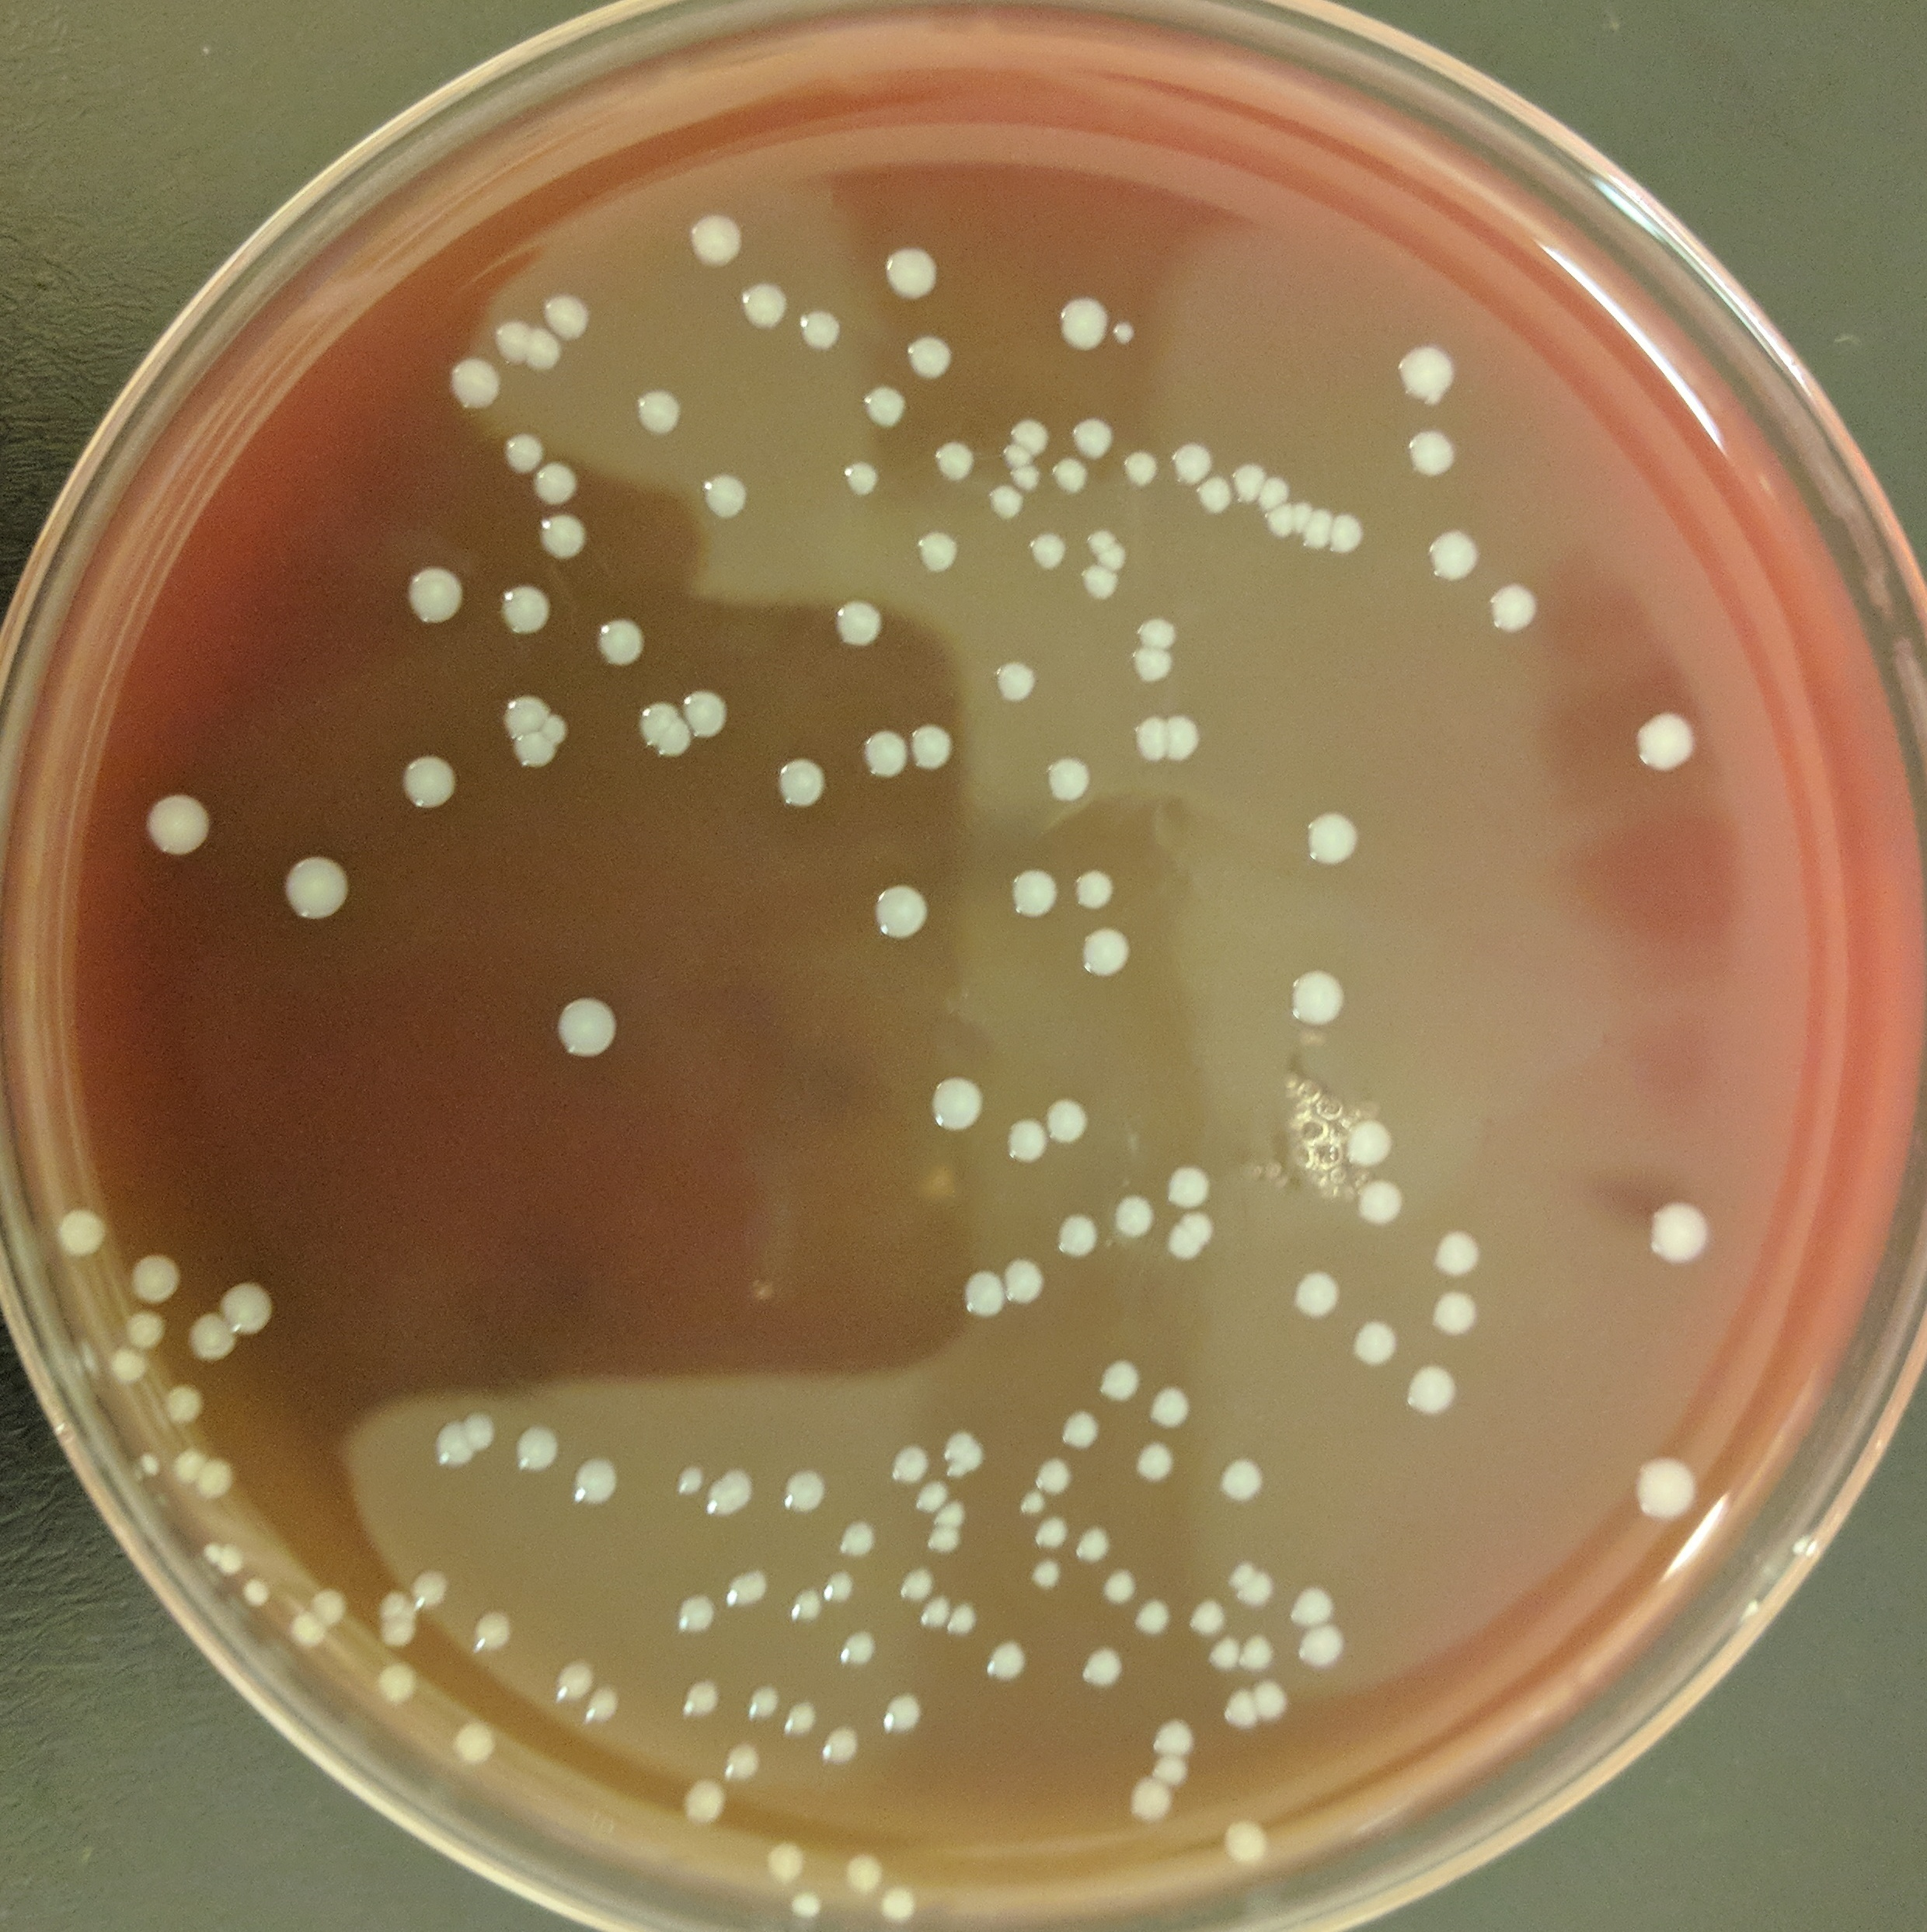sp14: (1622, 695, 1712, 785), (1634, 1182, 1721, 1272), (1625, 1442, 1710, 1533), (136, 778, 222, 866), (274, 843, 362, 928), (1406, 513, 1496, 595), (1387, 321, 1470, 406), (431, 339, 514, 423), (914, 1059, 999, 1142), (1387, 415, 1481, 489), (1419, 1274, 1502, 1357), (1473, 570, 1556, 649), (547, 986, 630, 1064), (1211, 1798, 1286, 1883), (1339, 1164, 1426, 1237), (397, 552, 476, 630), (866, 868, 942, 949), (390, 745, 469, 819), (1396, 1355, 1475, 1429), (676, 196, 755, 268), (1281, 958, 1355, 1034), (1297, 799, 1373, 873), (492, 573, 565, 651), (872, 229, 951, 300), (589, 598, 660, 676), (768, 743, 836, 822), (1422, 1209, 1495, 1283), (828, 582, 898, 658), (1034, 738, 1099, 817), (1041, 279, 1110, 353), (1341, 1307, 1408, 1383), (1073, 919, 1147, 986), (1283, 1253, 1350, 1327), (1002, 852, 1064, 932), (724, 272, 789, 346), (794, 296, 859, 369), (1293, 1618, 1368, 1681), (1323, 499, 1387, 573), (55, 1194, 118, 1269), (697, 462, 766, 529), (626, 376, 690, 448), (1212, 1438, 1274, 1512), (505, 1413, 574, 1479), (369, 1646, 432, 1717), (129, 1237, 191, 1309), (1156, 1210, 1223, 1276), (536, 279, 605, 342), (1069, 1634, 1133, 1703), (904, 325, 972, 388), (572, 1445, 632, 1517), (1048, 1200, 1106, 1274), (683, 663, 741, 738), (1154, 1145, 1221, 1209), (674, 1766, 736, 1835), (986, 644, 1046, 715), (858, 369, 916, 441), (1161, 702, 1218, 776), (1113, 1771, 1179, 1835), (1281, 1563, 1346, 1627), (1345, 1105, 1412, 1166), (979, 1627, 1041, 1694), (911, 517, 971, 586), (951, 1258, 1009, 1329), (912, 709, 965, 787), (775, 1456, 836, 1521), (1050, 1085, 1110, 1152), (446, 1711, 508, 1775), (759, 1821, 819, 1886), (1143, 1369, 1203, 1434), (226, 1269, 284, 1336), (1138, 1701, 1205, 1759), (1068, 852, 1128, 916), (1048, 1394, 1106, 1459), (1181, 468, 1239, 533), (856, 720, 909, 790), (875, 1678, 937, 1738), (773, 1872, 835, 1932), (1124, 1433, 1184, 1493), (667, 1669, 729, 1727), (925, 425, 979, 490), (161, 1374, 215, 1440), (1149, 785, 1196, 859), (1094, 1341, 1151, 1403), (831, 446, 888, 508), (937, 1415, 993, 1477), (1108, 1184, 1161, 1249), (879, 1426, 939, 1482), (469, 1595, 522, 1659), (625, 678, 678, 741), (815, 1717, 870, 1777), (709, 1459, 762, 1521), (187, 1307, 236, 1373), (872, 1877, 930, 1932), (1172, 423, 1226, 482), (538, 508, 598, 561), (494, 736, 554, 789), (1018, 520, 1069, 582), (1009, 1251, 1055, 1320), (831, 1509, 886, 1565), (406, 1554, 459, 1613), (482, 688, 545, 736), (136, 1424, 182, 1489), (1069, 404, 1121, 462), (722, 1736, 771, 1796), (835, 1838, 891, 1890), (999, 1115, 1048, 1173), (665, 1586, 718, 1639), (556, 1651, 605, 1708), (1133, 1597, 1182, 1653), (1121, 644, 1179, 692), (1129, 600, 1189, 646), (1018, 1553, 1073, 1602), (669, 1450, 716, 1507), (1239, 1613, 1286, 1669), (831, 1621, 884, 1671), (732, 1558, 782, 1611), (971, 482, 1025, 528), (1226, 1554, 1272, 1609), (784, 1570, 828, 1627), (588, 1674, 630, 1733), (376, 1600, 424, 1651), (1117, 722, 1163, 775), (1004, 401, 1048, 455), (1138, 1750, 1200, 1789), (198, 1454, 240, 1510), (1184, 1591, 1230, 1641), (431, 1415, 469, 1473), (745, 1673, 789, 1722), (1219, 1685, 1260, 1738), (888, 1569, 934, 1614), (1076, 566, 1124, 610), (819, 1567, 863, 1614), (1253, 1674, 1295, 1724), (1023, 1516, 1075, 1556), (1076, 1517, 1121, 1563), (782, 1694, 822, 1743), (1080, 517, 1129, 556), (1103, 1561, 1143, 1607), (104, 1348, 150, 1389), (535, 462, 581, 503), (1230, 453, 1265, 505), (124, 1309, 169, 1348), (1052, 457, 1099, 494), (919, 1524, 971, 1556), (494, 434, 542, 468), (171, 1440, 203, 1489), (1122, 452, 1159, 494), (1034, 1457, 1078, 1493), (494, 318, 531, 358), (311, 1588, 349, 1625), (529, 333, 565, 374), (660, 720, 690, 768), (911, 1477, 953, 1510), (291, 1613, 328, 1650), (948, 1602, 976, 1646), (921, 1593, 951, 1634), (1113, 321, 1149, 355), (1286, 496, 1313, 540), (469, 1412, 498, 1452), (1267, 499, 1295, 540), (1008, 466, 1043, 496), (242, 1577, 272, 1613), (1211, 1637, 1241, 1671), (930, 1501, 971, 1526), (1262, 475, 1288, 510), (997, 446, 1038, 469), (217, 1546, 245, 1577), (1309, 506, 1329, 552), (1089, 547, 1131, 566), (544, 711, 568, 741), (1016, 1491, 1045, 1512), (203, 1533, 219, 1567)
